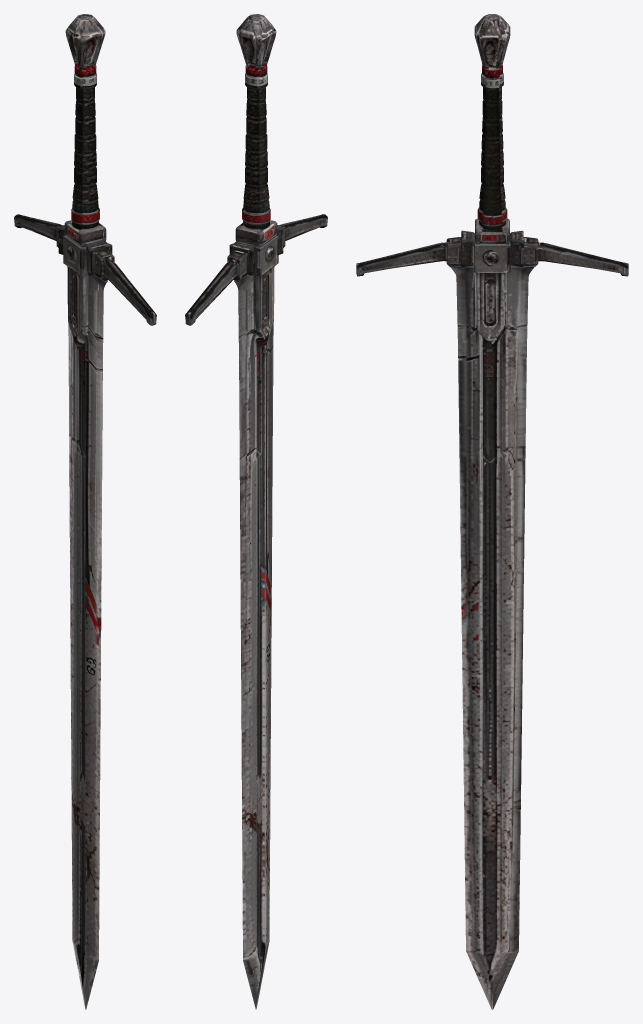
File: tripo_convert_00a758b7-e2c8-4261-975b-ab2d974af194.fbx
3 views of the same model, side by side, from view 1: azimuth 30°, elevation 25°; view 2: azimuth 150°, elevation 25°; view 3: azimuth 270°, elevation 25° (orthographic).
Parts seen in each view (by area): view 1: tripo_node_00a758b7; view 2: tripo_node_00a758b7; view 3: tripo_node_00a758b7.
Boxes of the visible parts, left/top/right/bottom form: tripo_node_00a758b7: left=14, top=14, right=156, bottom=1009; tripo_node_00a758b7: left=185, top=14, right=327, bottom=1009; tripo_node_00a758b7: left=356, top=14, right=628, bottom=1009.
Bounding box in the file's own units: 0.0327 × 0.9995 × 0.2485.
